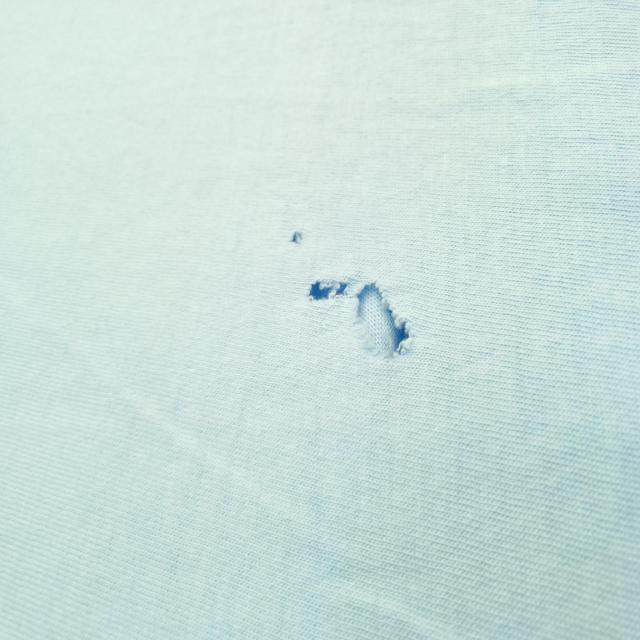other: (278, 271, 432, 397), (266, 203, 325, 265)
